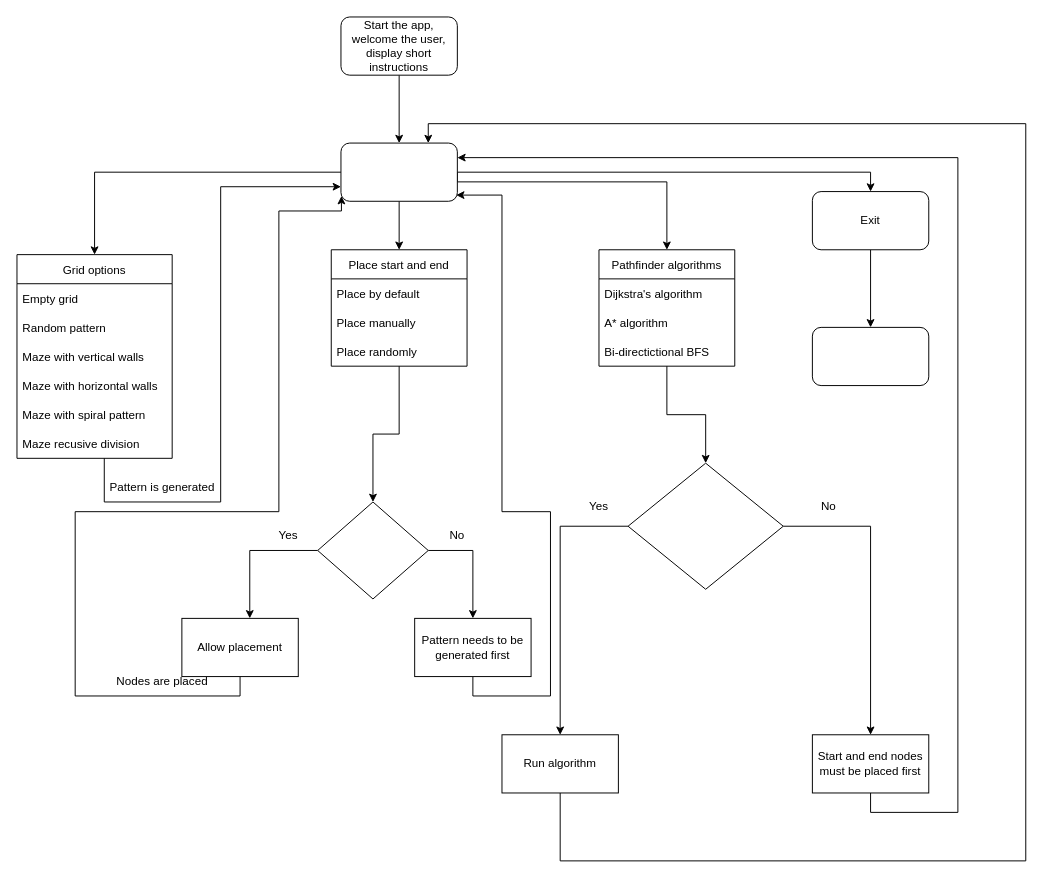
Some shapes in this 1051 by 886 pixel diagram are drawn without their labels. The shapes that lost their labels are listed below. From the top down, each one's centre as x and y in pixels, then its label:
At [398,171]: "Main menu".
At [870,356]: "Show the bye message, quit the app".
At [705,525]: "Are start and end nodes on the grid?".
At [372,550]: "Is pattern generated?".
